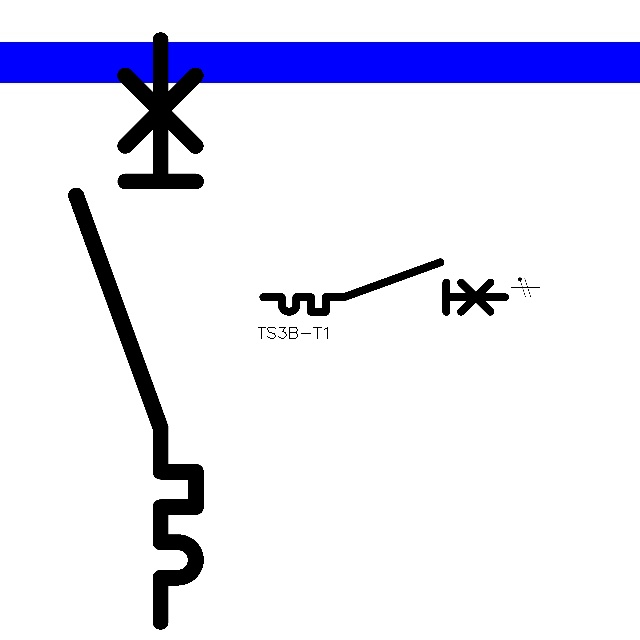interruptor_termomagnetico: (61, 25, 211, 637), (257, 256, 511, 318)
